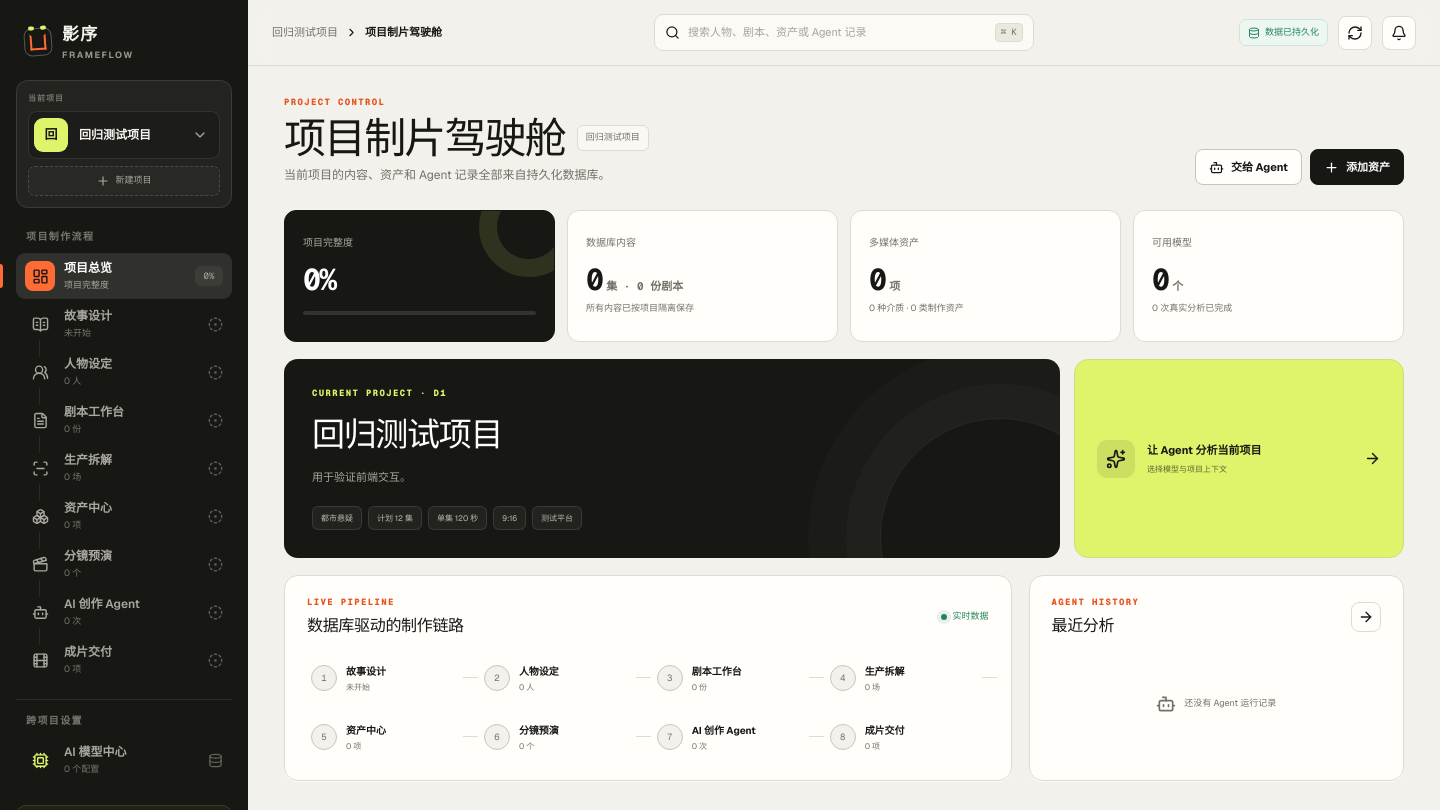
Test: 关键按钮点击回归 › 项目切换器整块可点击，并使用站内风格列表切换项目
What coordinates should you click on to do the following:
click the dropdown named "当前项目"
I would click on:
 (124, 135)
Its box is x1=28 y1=111 x2=220 y2=159.
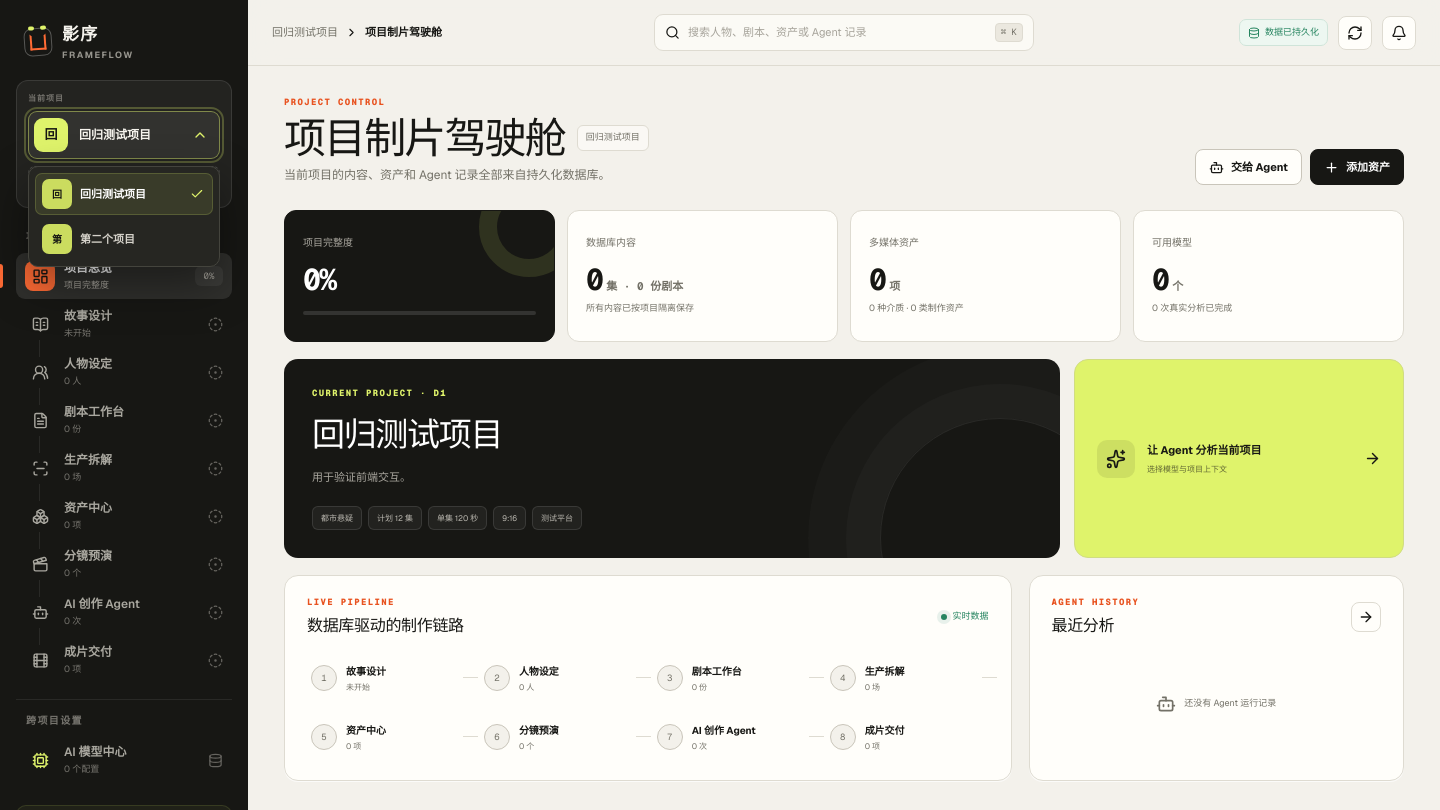
Expected: the list named "当前项目" is shown, x1=28 y1=166 x2=220 y2=267
What coordinates should you click on to do the following:
click the option "第 第二个项目"
I would click on:
 (124, 239)
Its box is x1=35 y1=218 x2=213 y2=260.
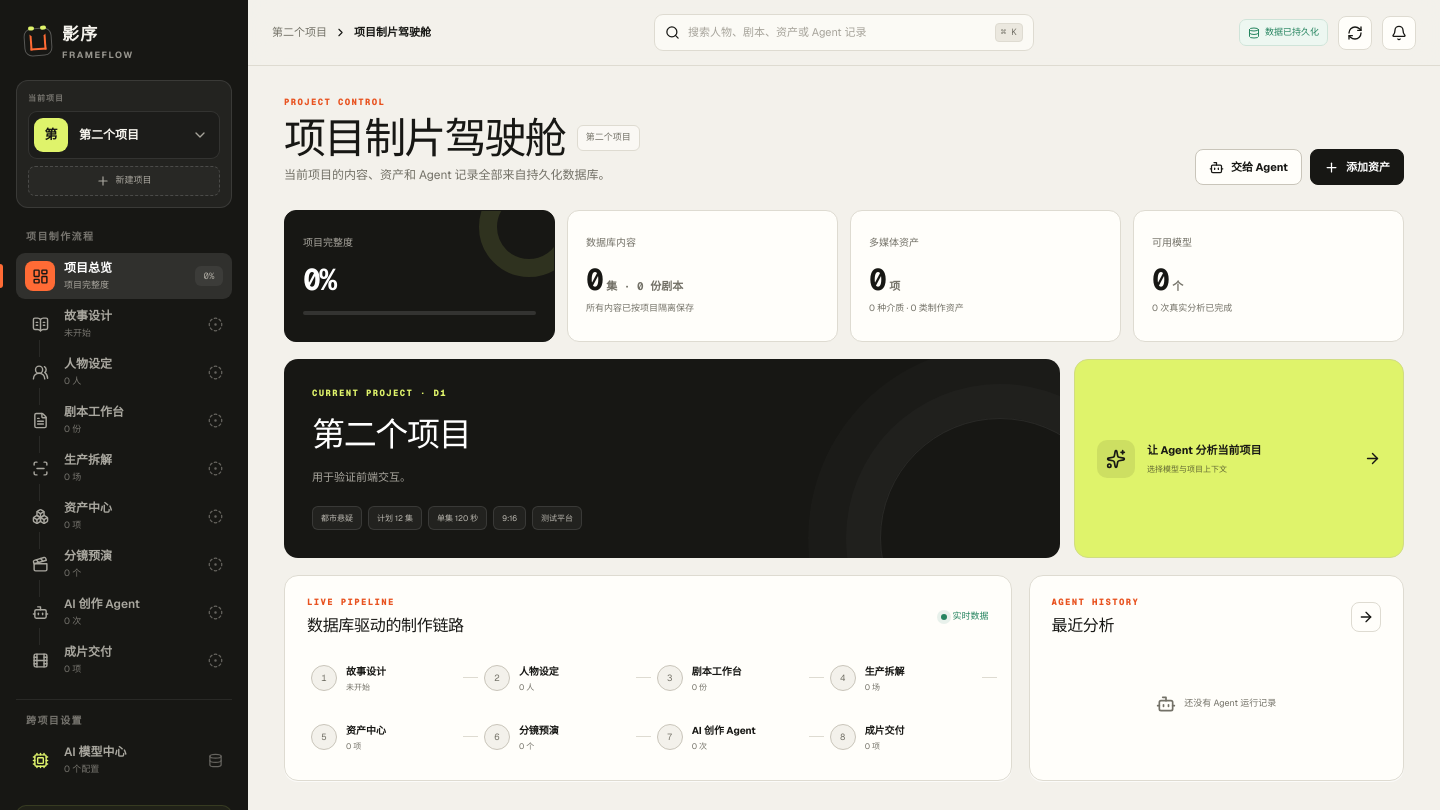
Expected: the dropdown named "当前项目" shows "第二个项目", x1=28 y1=111 x2=220 y2=159
